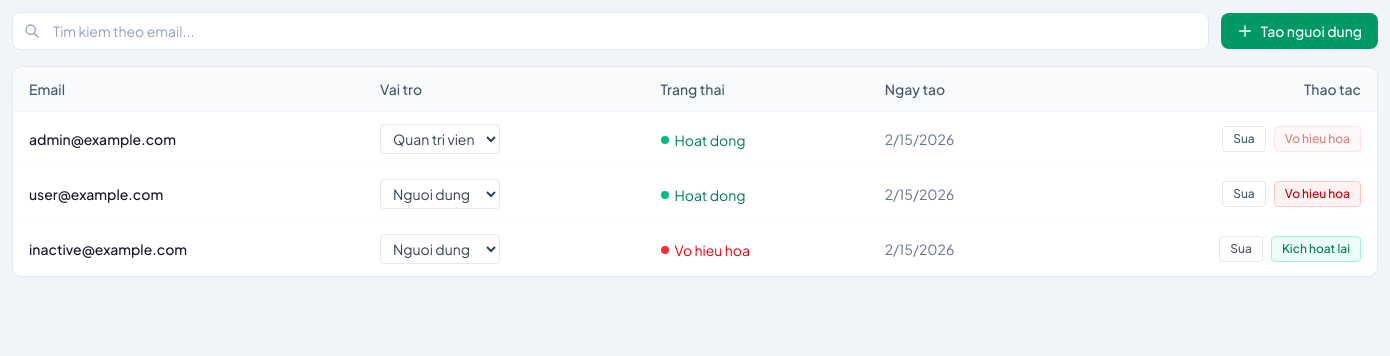
Scenario: UserList › handles API error gracefully
The width and height of the screenshot is (1390, 356).
Expected: the text "user@example.com" is shown, [13, 166, 364, 222]
Step 1. Select "Quan tri vien" in the dropdown named "Role for user@example.com" → (440, 194), box [380, 179, 500, 209]
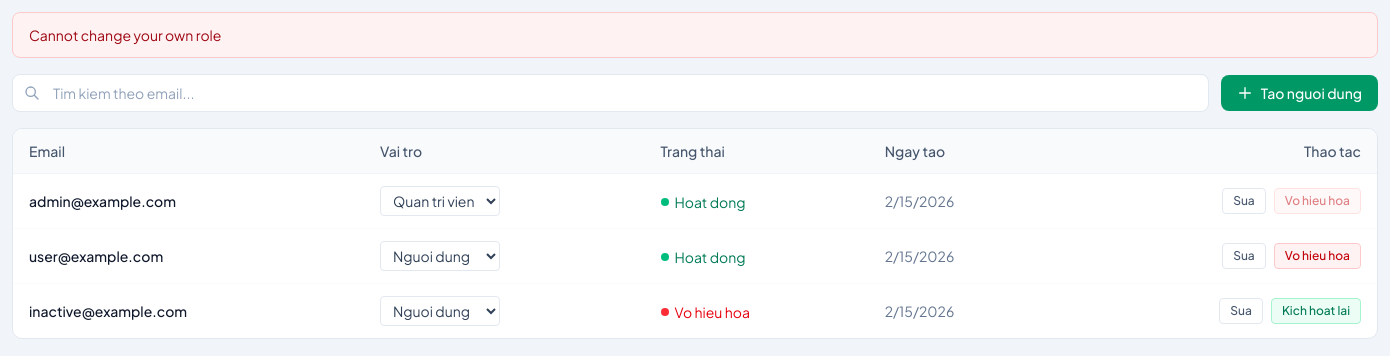
Now the text "Cannot change your own role" is shown, box [12, 12, 1378, 58]
